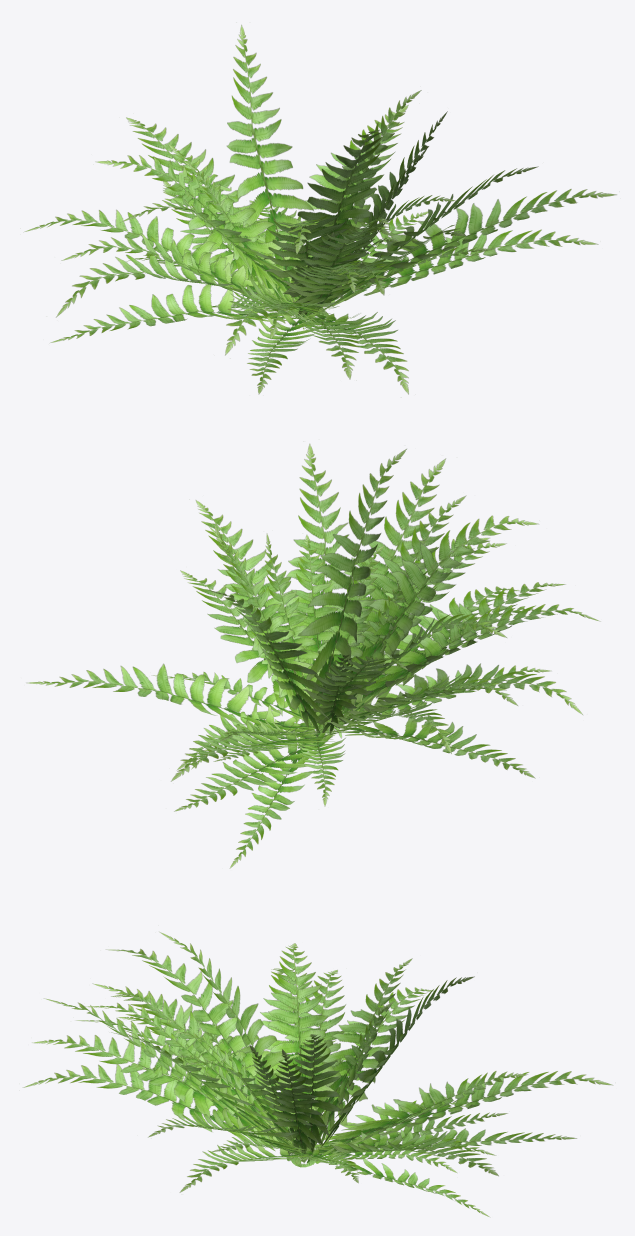
File: Pakis_01_B_-_copy_001.glb
The picture shows the model from 3 angles, top to bottom: view 1: azimuth 30°, elevation 25°; view 2: azimuth 150°, elevation 25°; view 3: azimuth 270°, elevation 25°; orthographic projection. The views are drawn at different scales.
Visible parts, largest first — view 1: Pakis_01_B - copy.001; view 2: Pakis_01_B - copy.001; view 3: Pakis_01_B - copy.001.
Boxes of the visible parts, x1=… form: Pakis_01_B - copy.001: x1=24, y1=25, x2=616, y2=394; Pakis_01_B - copy.001: x1=27, y1=444, x2=600, y2=868; Pakis_01_B - copy.001: x1=23, y1=932, x2=612, y2=1216.
Size of the model in its own units: 1.94 by 1.17 by 2.15.
Materials: 1 (1 with a texture image).
